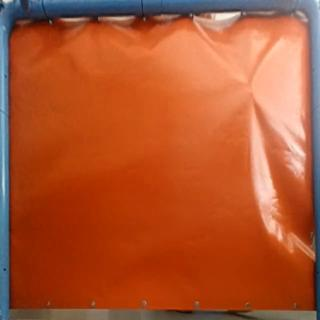Hit-hRxx: (243, 81, 259, 98)
